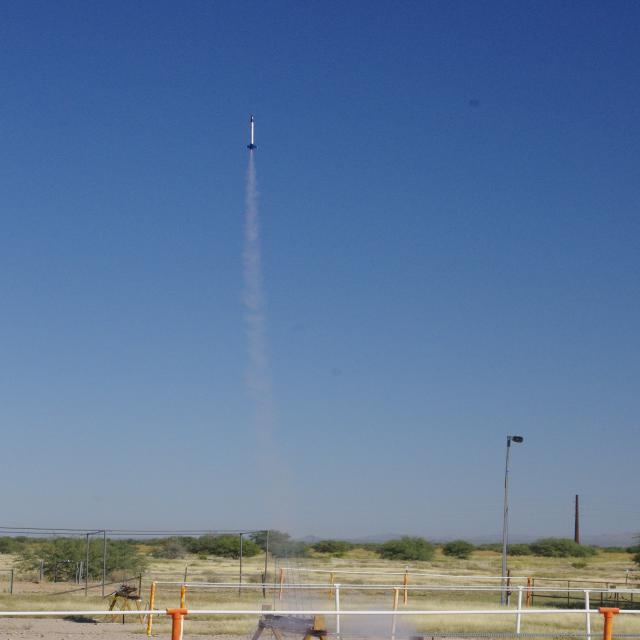Rocket: (246, 114, 258, 150)
